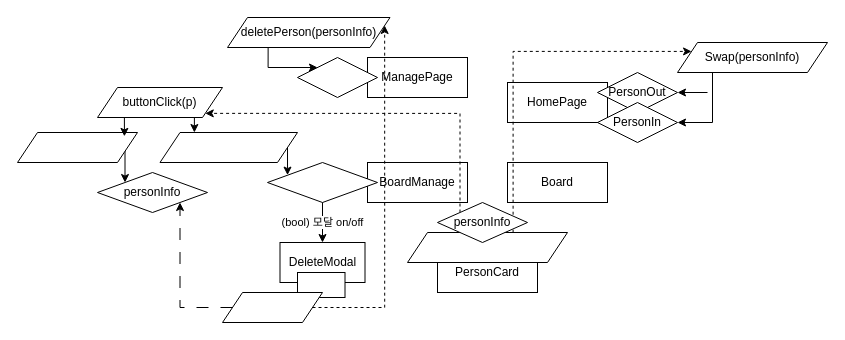
This 845x340 diagram has some shape labels left out. The centre of each missing label's shape, as x and y in pixels:
"delete(p)" belongs at (x=272, y=307).
"hadleDeleteModal" belongs at (x=228, y=147).
"isDeleteModal" belongs at (x=322, y=182).
"onButtonClick" belongs at (x=487, y=247).
"PersonCrt" belongs at (x=337, y=77).
"setPerson(p)" belongs at (x=77, y=147).
"삭제" belongs at (x=320, y=285).
